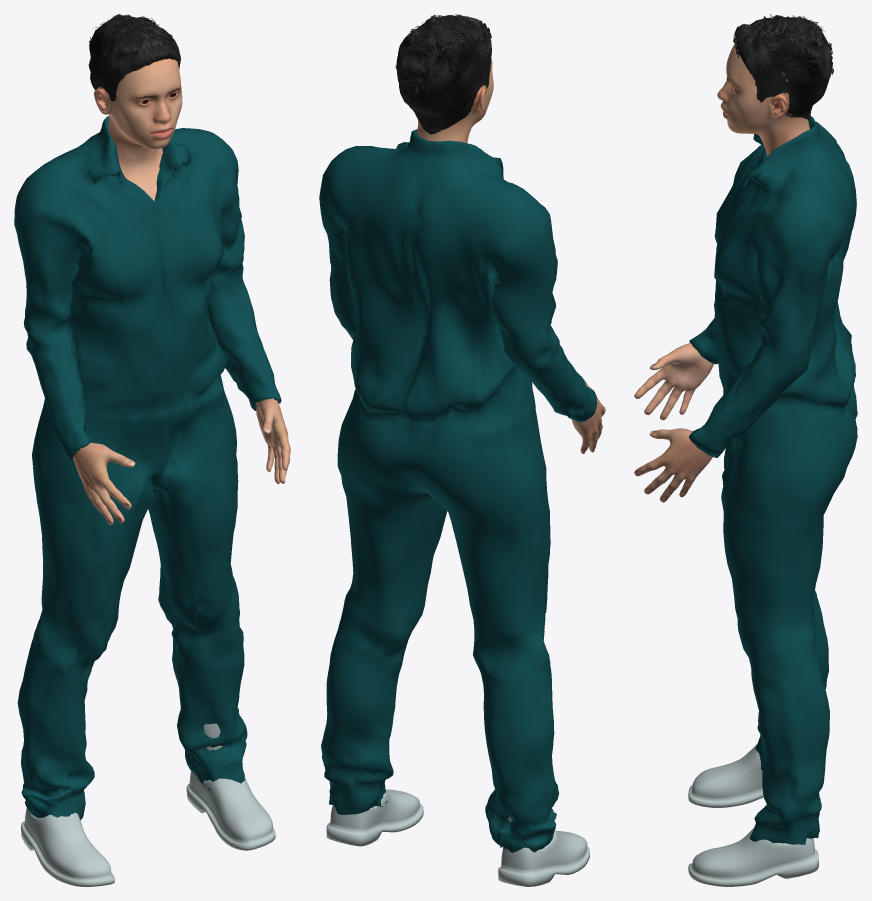
The model's file is asset.fbx.
3 views of the same model, side by side, from view 1: azimuth 30°, elevation 25°; view 2: azimuth 150°, elevation 25°; view 3: azimuth 270°, elevation 25° (orthographic). The views are drawn at different scales.
Visible parts, largest first — view 1: radcare_assistant_nurse_outfit, radcare_assistant_nurse_body, radcare_assistant_nurse_shoes, radcare_assistant_nurse_hair; view 2: radcare_assistant_nurse_outfit, radcare_assistant_nurse_hair, radcare_assistant_nurse_shoes, radcare_assistant_nurse_body; view 3: radcare_assistant_nurse_outfit, radcare_assistant_nurse_body, radcare_assistant_nurse_shoes, radcare_assistant_nurse_hair.
Boxes of the visible parts, bbox=[...] form: radcare_assistant_nurse_outfit: bbox=[14, 116, 281, 820]; radcare_assistant_nurse_body: bbox=[73, 58, 290, 525]; radcare_assistant_nurse_shoes: bbox=[21, 723, 275, 886]; radcare_assistant_nurse_hair: bbox=[88, 14, 180, 101]; radcare_assistant_nurse_outfit: bbox=[319, 129, 596, 852]; radcare_assistant_nurse_hair: bbox=[395, 14, 491, 134]; radcare_assistant_nurse_shoes: bbox=[326, 789, 589, 886]; radcare_assistant_nurse_body: bbox=[417, 59, 605, 453]; radcare_assistant_nurse_outfit: bbox=[689, 116, 857, 844]; radcare_assistant_nurse_body: bbox=[634, 43, 809, 502]; radcare_assistant_nurse_shoes: bbox=[688, 744, 818, 886]; radcare_assistant_nurse_hair: bbox=[733, 14, 833, 120].
Size of the model in its own units: 0.4816 by 1.68 by 0.4156.
